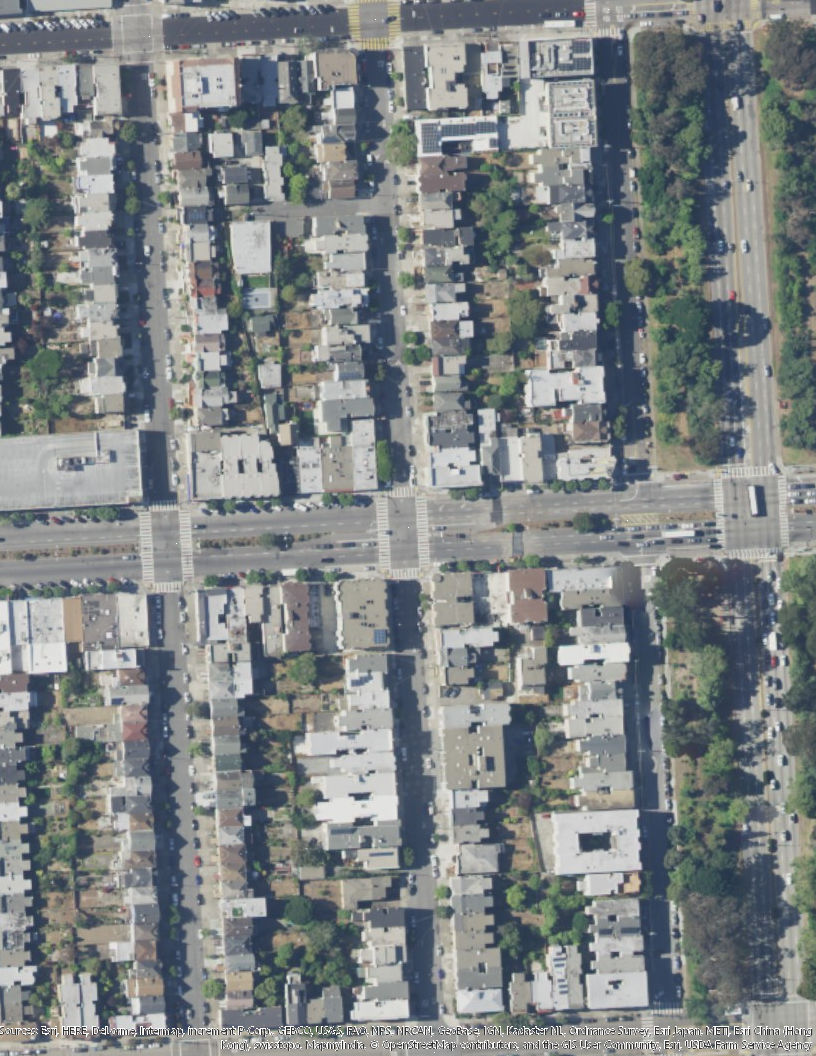zebracross: (178, 510, 195, 582), (138, 511, 156, 579), (415, 495, 431, 564), (378, 499, 393, 571), (713, 475, 727, 549), (724, 463, 779, 481), (779, 473, 790, 547), (729, 547, 779, 562), (652, 999, 685, 1017), (347, 4, 362, 39), (582, 1, 597, 33), (643, 1015, 655, 1055), (387, 1, 400, 35), (150, 497, 179, 512), (390, 568, 422, 581), (361, 36, 390, 49), (388, 484, 417, 497), (153, 582, 182, 593)
